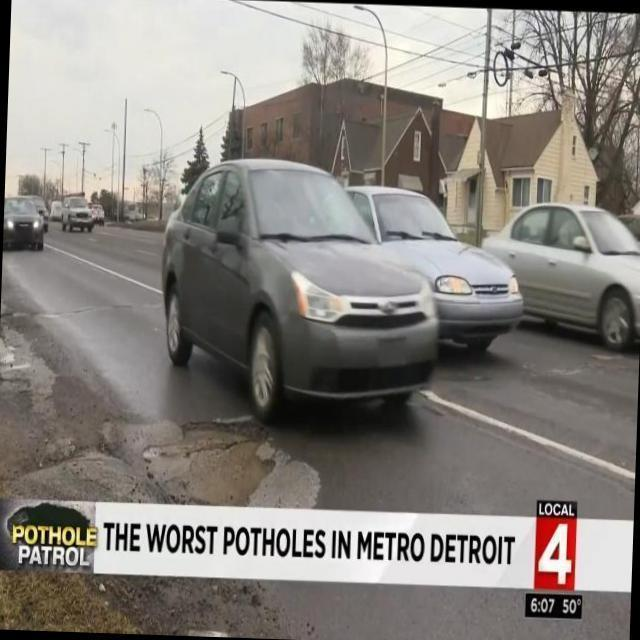Pothole: (106, 420, 317, 511)
